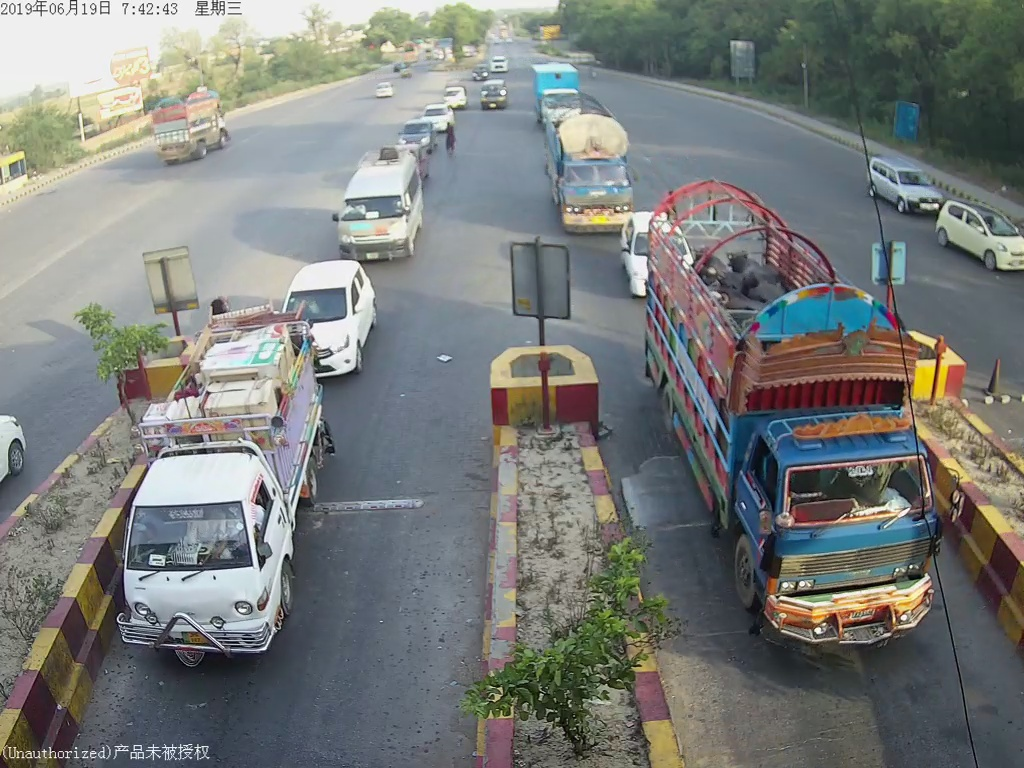Cat-2: (621, 164, 978, 675), (123, 325, 356, 671), (338, 154, 426, 263)
